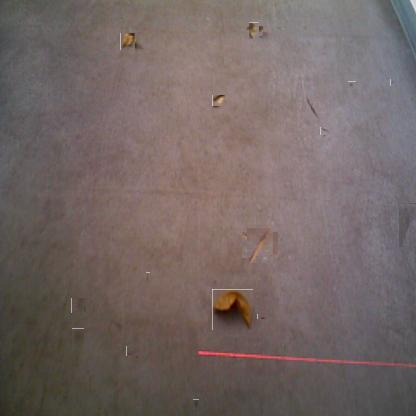dirty: (212, 289, 253, 330), (244, 230, 276, 260), (119, 33, 136, 50), (248, 24, 261, 38), (212, 94, 225, 106)
mark: (398, 203, 416, 247), (305, 96, 319, 120), (71, 298, 85, 313), (72, 328, 84, 343), (128, 345, 140, 358), (321, 126, 332, 137), (113, 320, 123, 330), (258, 312, 267, 321), (193, 399, 199, 410), (349, 81, 356, 89), (146, 272, 150, 283), (390, 78, 395, 86), (302, 24, 308, 30)
